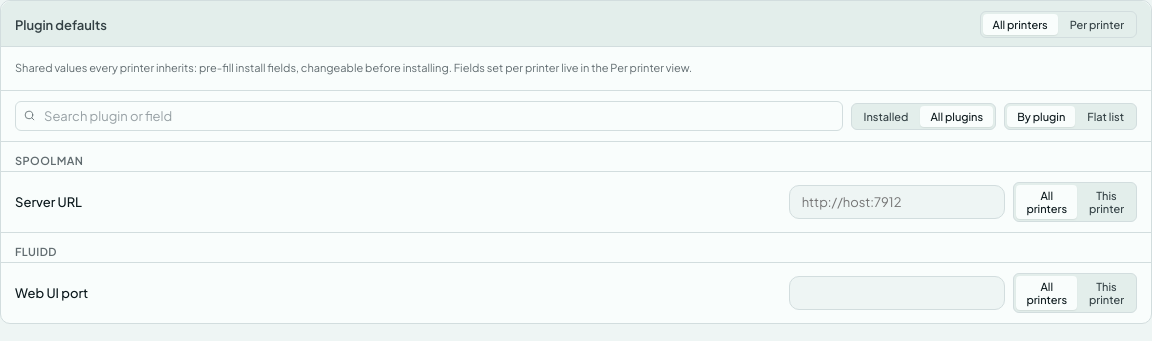
Scenario: ScopedPluginDefaultsPane view division and installed filter › keeps a printer-hinted field out of the All printers view (no mixed scope)
This screenshot has width=1152, height=341.
Check: the text "Server URL" is shown, box [15,194,82,210]
Check: the text "Location" is not shown
Click the button "Per printer" at (1097, 24), box [1060,14,1134,35]
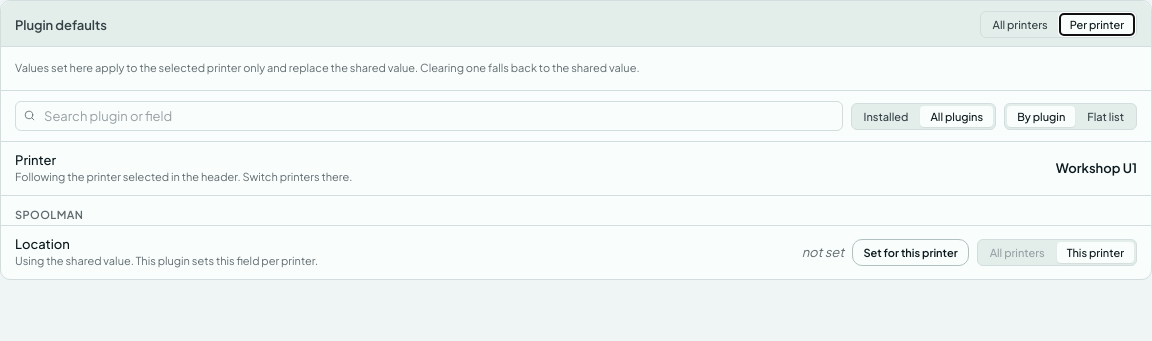
Check: the text "Location" is shown, box [15,236,70,252]
Check: the text "Server URL" is gone
